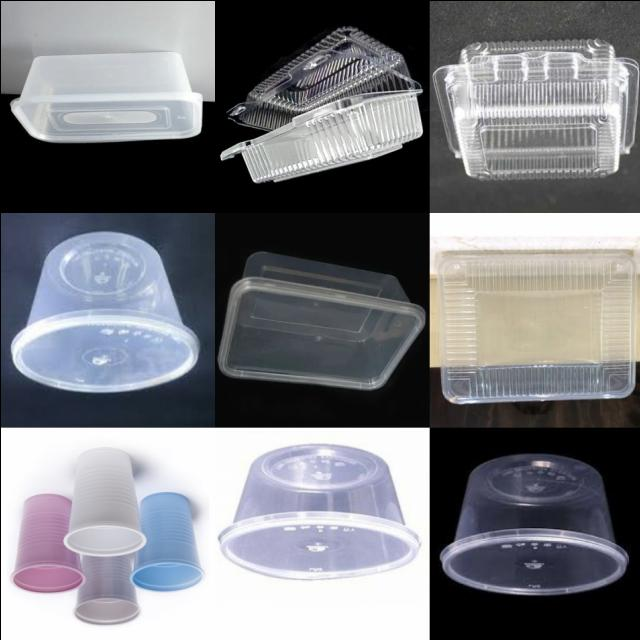plastik: (219, 26, 422, 182), (437, 251, 636, 402), (11, 231, 198, 391), (432, 39, 638, 178), (217, 251, 424, 389), (218, 443, 419, 578), (440, 453, 627, 594), (11, 51, 202, 142), (62, 448, 145, 556), (9, 494, 85, 592), (129, 492, 203, 591), (72, 554, 140, 625)
